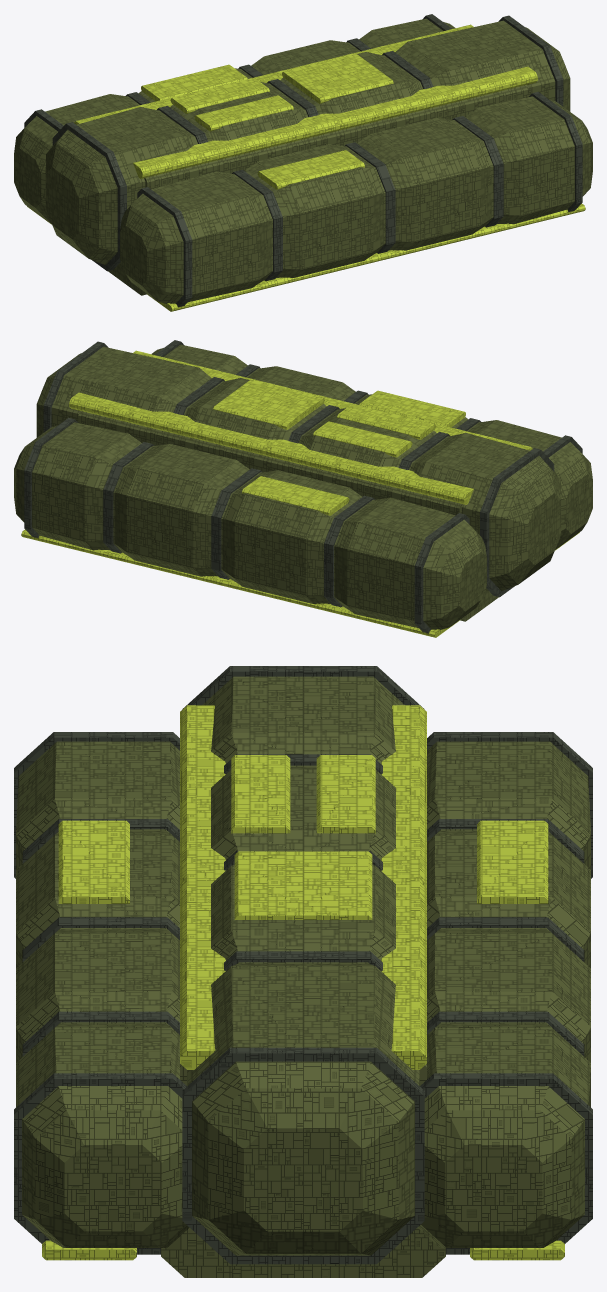
File: green_lod2.glb
The picture shows the model from 3 angles, top to bottom: view 1: azimuth 30°, elevation 25°; view 2: azimuth 150°, elevation 25°; view 3: azimuth 270°, elevation 25°; orthographic projection. The views are drawn at different scales.
Visible parts, largest first — view 1: green_lod2_body; view 2: green_lod2_body; view 3: green_lod2_body.
Boxes of the visible parts, x1,y1,x2,y2 form: green_lod2_body: (14, 14, 592, 311); green_lod2_body: (14, 340, 592, 637); green_lod2_body: (14, 666, 592, 1277).
Bounding box in the file's own units: 21.4 × 5.8 × 12.18.
Materials: 1 (1 with a texture image).
